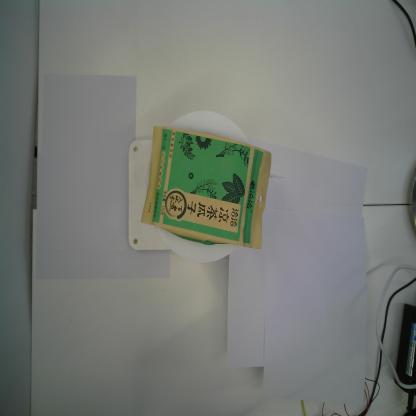Dried Food: (139, 124, 273, 252)
